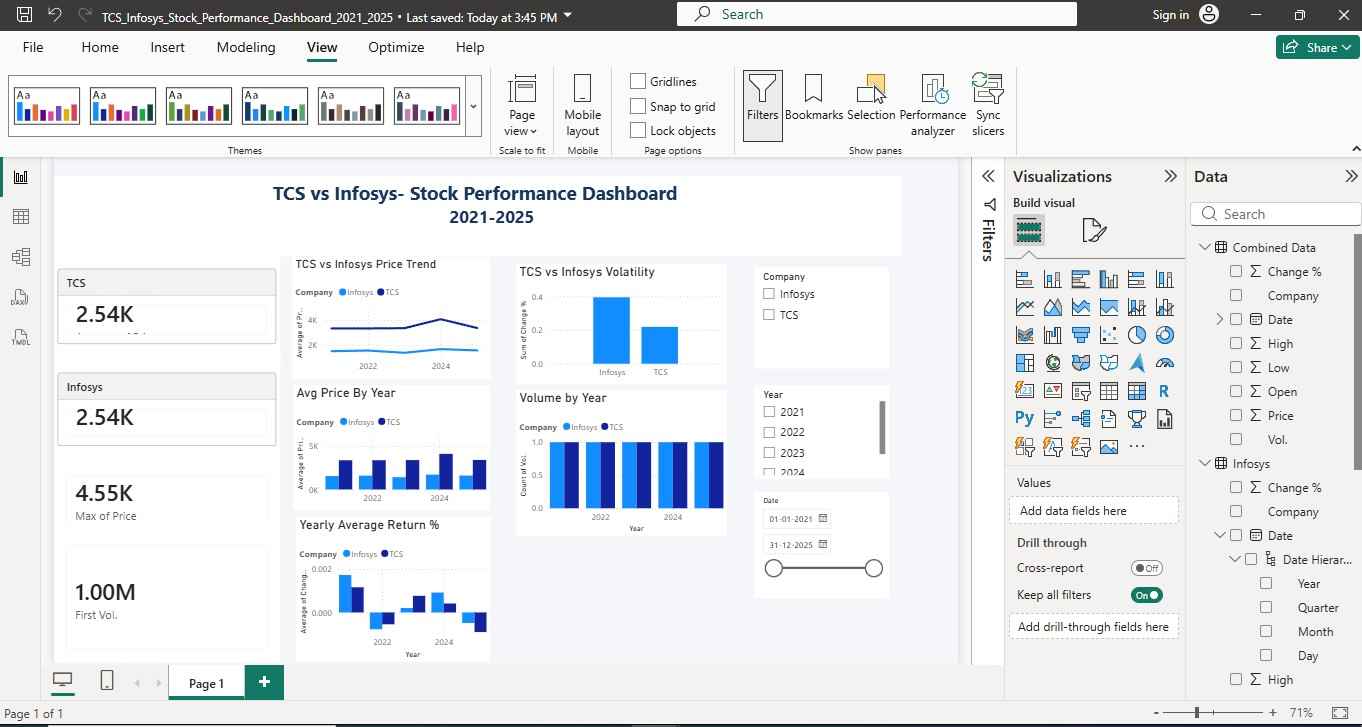

This screenshot's page, from the dashboard's own definition file:
{"tool":"powerbi","page":{"name":"Page 1","canvas":[1280,720],"ordinal":0},"visuals":[{"type":"cardVisual","fields":{"Data":["Avg(Combined Data.Price)"],"Rows":["TCS.Company"]},"box":[0,132.7,320.8,157.9],"z":0},{"type":"cardVisual","fields":{"Data":["Avg(Combined Data.Price)"],"Rows":["Infosys.Company"]},"box":[0,280.5,320.8,154.5],"z":1000},{"type":"cardVisual","fields":{"Data":["Max(Combined Data.Price)"]},"box":[0,435.1,320.8,100.8],"z":2000},{"type":"cardVisual","fields":{"Data":["Min(Combined Data.Vol.)"]},"box":[0,532.5,320.8,183.1],"z":3000},{"type":"lineChart","title":"TCS vs Infosys Price Trend","fields":{"Category":["Combined Data.Date.Variation.Date Hierarchy.Year","Combined Data.Date.Variation.Date Hierarchy.Quarter","Combined Data.Date.Variation.Date Hierarchy.Month","Combined Data.Date.Variation.Date Hierarchy.Day"],"Y":["Avg(Combined Data.Price)"],"Series":["Combined Data.Company"]},"box":[337.6,141.1,280.5,173],"z":4000},{"type":"clusteredColumnChart","title":"Avg Price By Year","fields":{"Category":["Combined Data.Date.Variation.Date Hierarchy.Year","Combined Data.Date.Variation.Date Hierarchy.Quarter","Combined Data.Date.Variation.Date Hierarchy.Month","Combined Data.Date.Variation.Date Hierarchy.Day"],"Y":["Avg(Combined Data.Price)"],"Series":["Combined Data.Company"]},"box":[339.3,322.5,278.8,178.1],"z":5000},{"type":"clusteredColumnChart","title":"Yearly Average Return %","fields":{"Category":["Combined Data.Date.Variation.Date Hierarchy.Year","Combined Data.Date.Variation.Date Hierarchy.Quarter","Combined Data.Date.Variation.Date Hierarchy.Month","Combined Data.Date.Variation.Date Hierarchy.Day"],"Y":["Avg(Combined Data.Change %)"],"Series":["Combined Data.Company"]},"box":[342.7,510.7,275.5,204.9],"z":6000},{"type":"clusteredColumnChart","title":"TCS vs Infosys Volatility","fields":{"Category":["Combined Data.Company"],"Y":["Sum(Combined Data.Change %)"]},"box":[655.1,151.2,299,171.3],"z":7000},{"type":"clusteredColumnChart","title":"Volume by Year","fields":{"Category":["Combined Data.Date.Variation.Date Hierarchy.Year"],"Series":["Combined Data.Company"],"Y":["CountNonNull(Combined Data.Vol.)"]},"box":[655.1,330.9,299,206.6],"z":8000},{"type":"slicer","title":"Company","fields":{"Values":["Combined Data.Company"]},"box":[992.8,156.2,191.5,144.5],"z":9000},{"type":"slicer","fields":{"Values":["Combined Data.Date.Variation.Date Hierarchy.Year"]},"box":[992.8,322.5,191.5,132.7],"z":10000},{"type":"slicer","fields":{"Values":["Combined Data.Date"]},"box":[992.8,475.4,191.5,149.5],"z":11000},{"type":"textbox","box":[0,26.9,1201,114.2],"z":12000}]}

Visuals, with their boxes on the page's 1280x720 design canvas (x1, y1, x2, y2). These are canvas units, not pixel positions in the 1362x727 screenshot, which may show the page scaled, cropped or inside an application window:
cardVisual - Avg(Combined Data.Price) x TCS.Company: rect(0, 133, 321, 291)
cardVisual - Avg(Combined Data.Price) x Infosys.Company: rect(0, 280, 321, 435)
cardVisual - Max(Combined Data.Price): rect(0, 435, 321, 536)
cardVisual - Min(Combined Data.Vol.): rect(0, 532, 321, 716)
"TCS vs Infosys Price Trend" lineChart: rect(338, 141, 618, 314)
"Avg Price By Year" clusteredColumnChart: rect(339, 322, 618, 501)
"Yearly Average Return %" clusteredColumnChart: rect(343, 511, 618, 716)
"TCS vs Infosys Volatility" clusteredColumnChart: rect(655, 151, 954, 322)
"Volume by Year" clusteredColumnChart: rect(655, 331, 954, 538)
"Company" slicer: rect(993, 156, 1184, 301)
slicer - Combined Data.Date.Variation.Date Hierarchy.Year: rect(993, 322, 1184, 455)
slicer - Combined Data.Date: rect(993, 475, 1184, 625)
textbox: rect(0, 27, 1201, 141)
